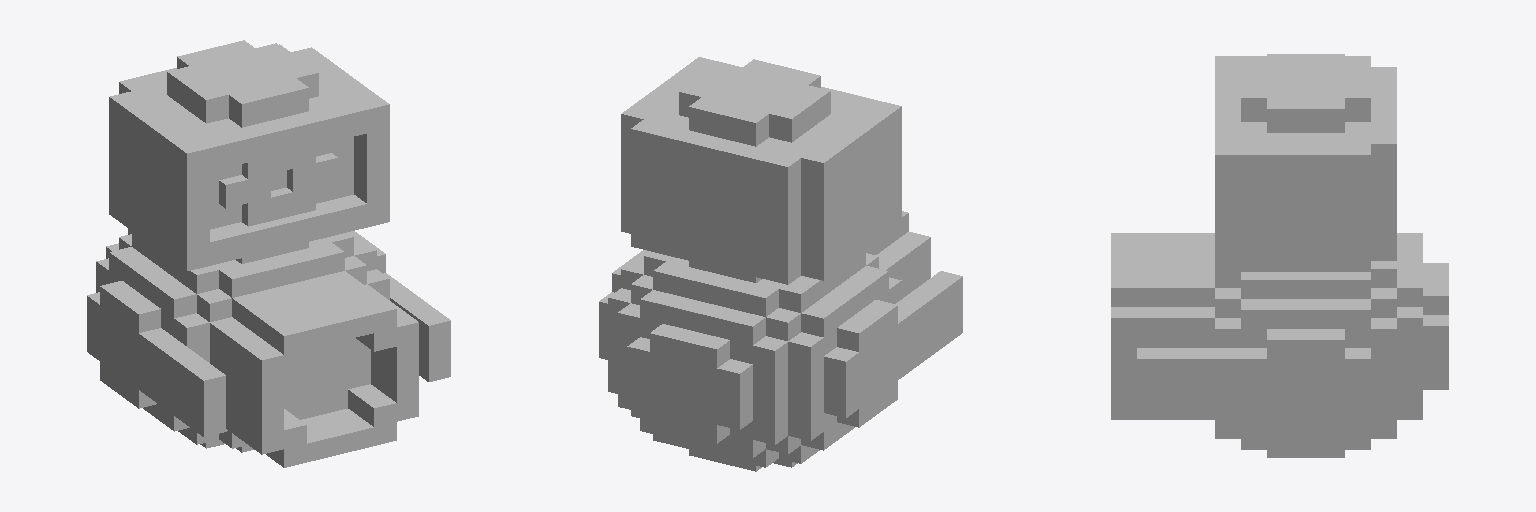
The model's file is Shooter.obj.
3 views of the same model, side by side, from view 1: azimuth 30°, elevation 25°; view 2: azimuth 150°, elevation 25°; view 3: azimuth 270°, elevation 25° (orthographic).
Visible parts, largest first — view 1: pCube1 ShooterWithouRing; view 2: pCube1 ShooterWithouRing; view 3: pCube1 ShooterWithouRing.
Boxes of the visible parts, x1=… form: pCube1 ShooterWithouRing: x1=87, y1=40, x2=450, y2=467; pCube1 ShooterWithouRing: x1=599, y1=57, x2=962, y2=471; pCube1 ShooterWithouRing: x1=1111, y1=54, x2=1448, y2=457.
Bounding box in the file's own units: 1.1 × 1.48 × 1.3.